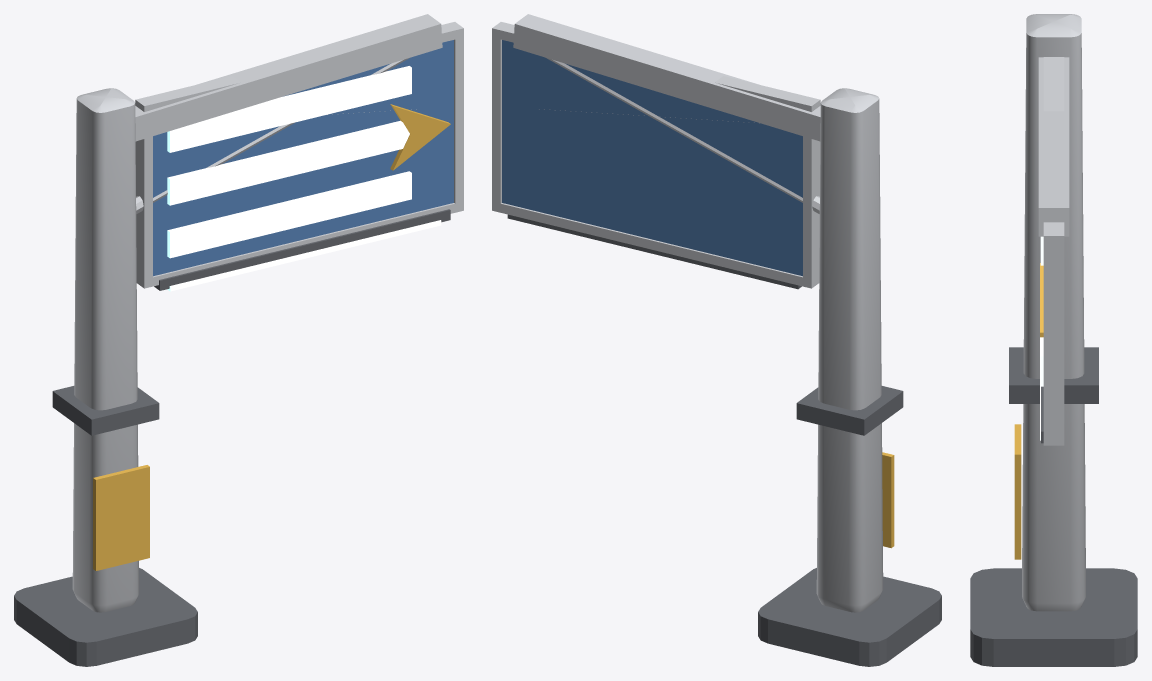
File: hover-transit-and-antigrav-fleet-direction-gantry-sign-65b06a7c__17125.glb
3 views of the same model, side by side, from view 1: azimuth 30°, elevation 25°; view 2: azimuth 150°, elevation 25°; view 3: azimuth 270°, elevation 25° (orthographic). The views are drawn at different scales.
Parts seen in each view (by area): view 1: direction-gantry-sign; view 2: direction-gantry-sign; view 3: direction-gantry-sign.
Boxes of the visible parts, box(x1,y1,x2,y2) form: direction-gantry-sign: box(14, 14, 463, 666); direction-gantry-sign: box(492, 14, 941, 666); direction-gantry-sign: box(970, 14, 1137, 666).
Bounding box in the file's own units: 4.3 × 5.24 × 1.3.
